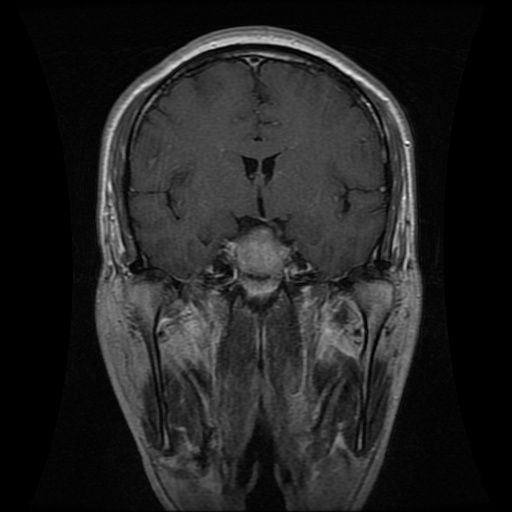pituitary: (222, 225, 289, 277)
